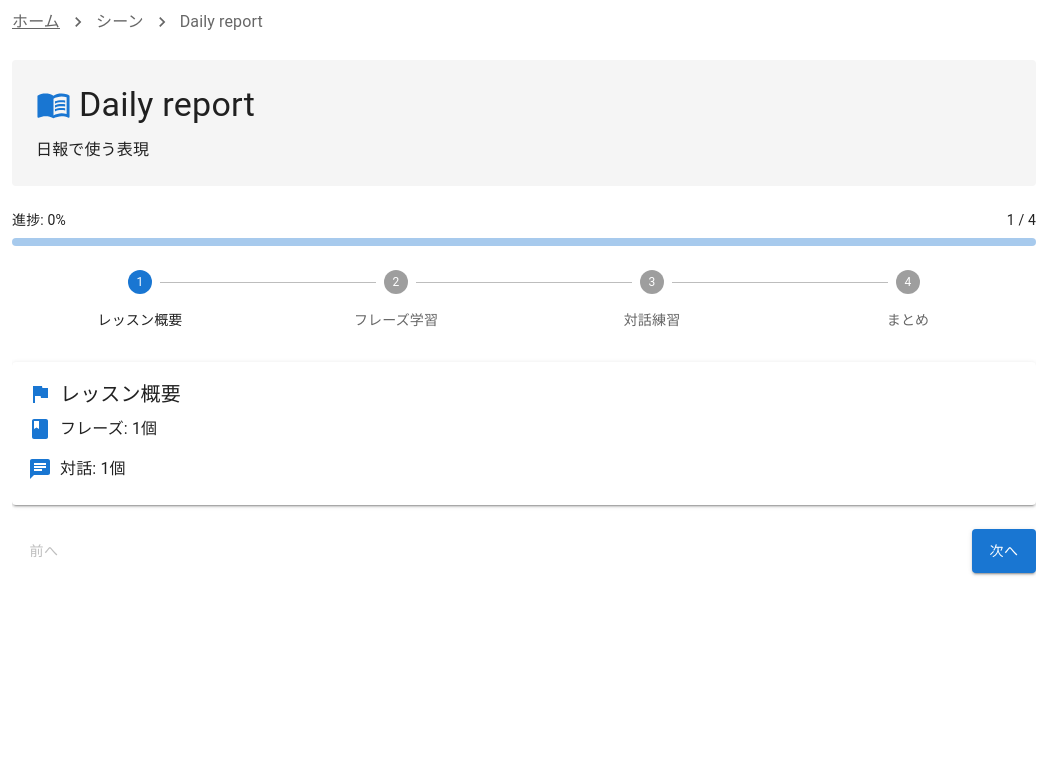
Test case: サーバに保存できない場合は進捗をローカルに保存する
Click the button "次へ" at (1004, 551), box [972,529,1036,573]
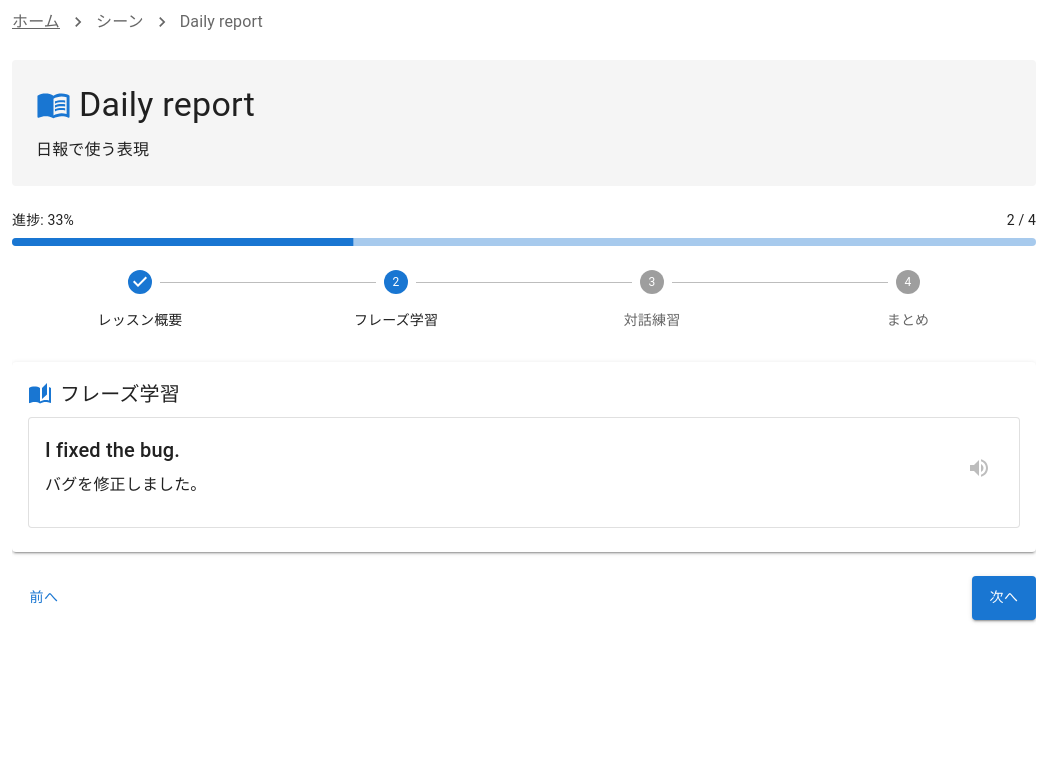
Click the button "次へ" at (1004, 598), box [972,576,1036,620]
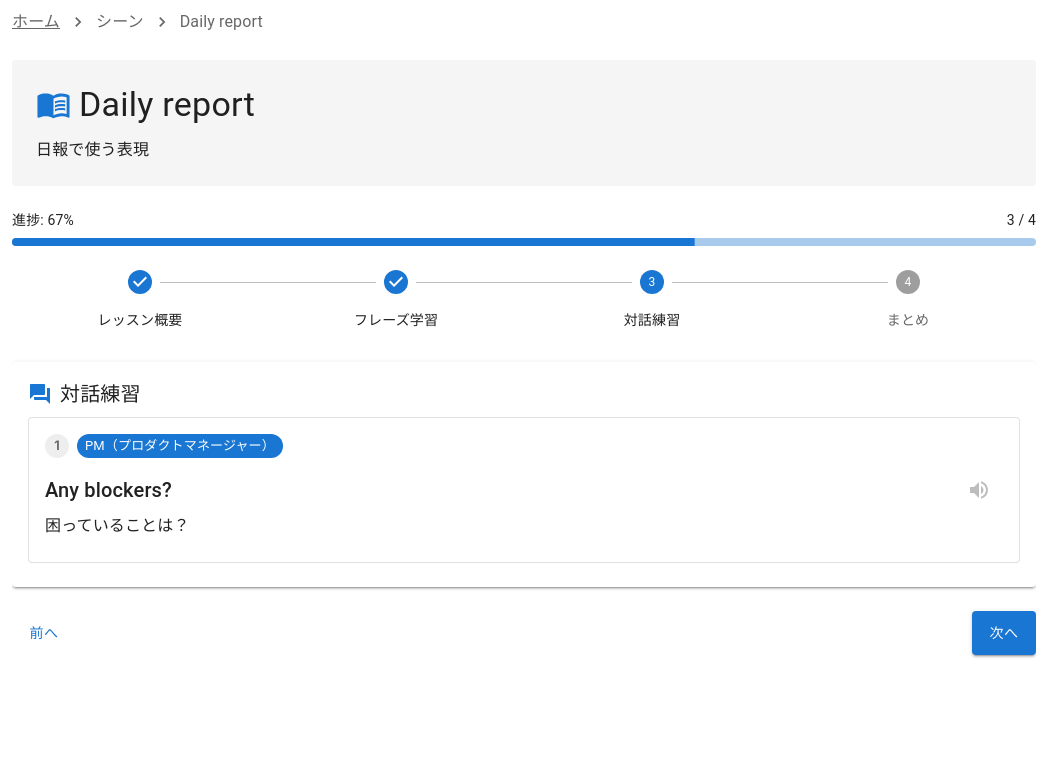
Click the button "次へ" at (1004, 633), box [972,611,1036,655]
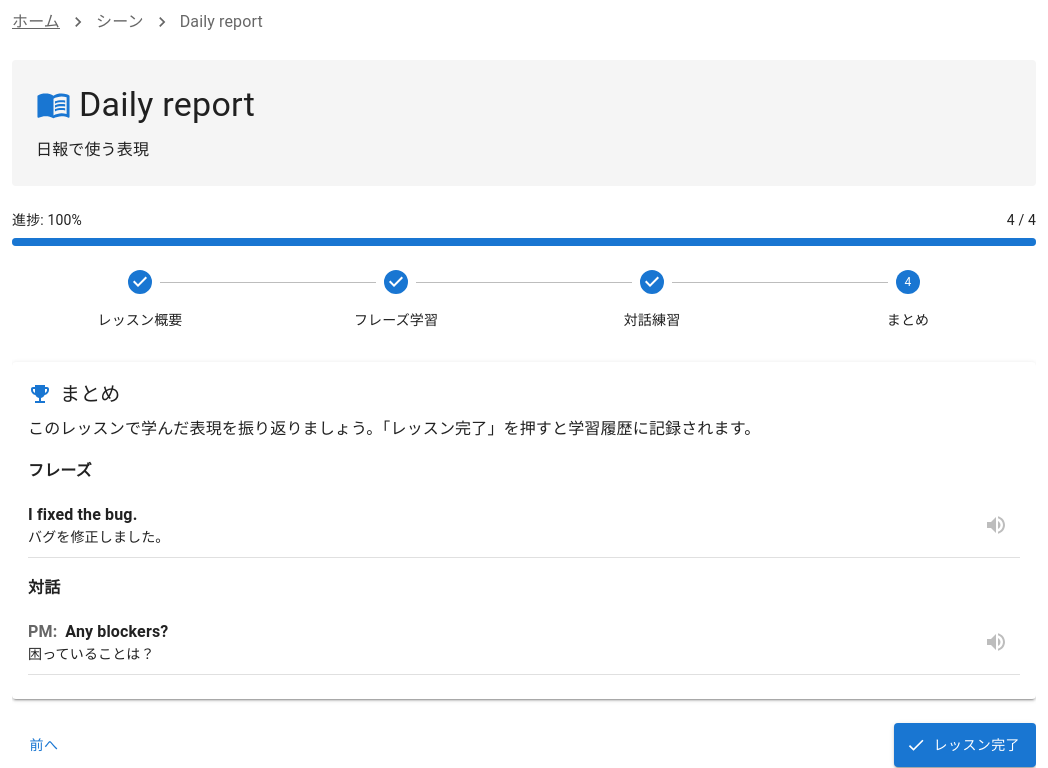
Click the button "レッスン完了" at (965, 745), box [894,723,1036,767]
(page scrolled)
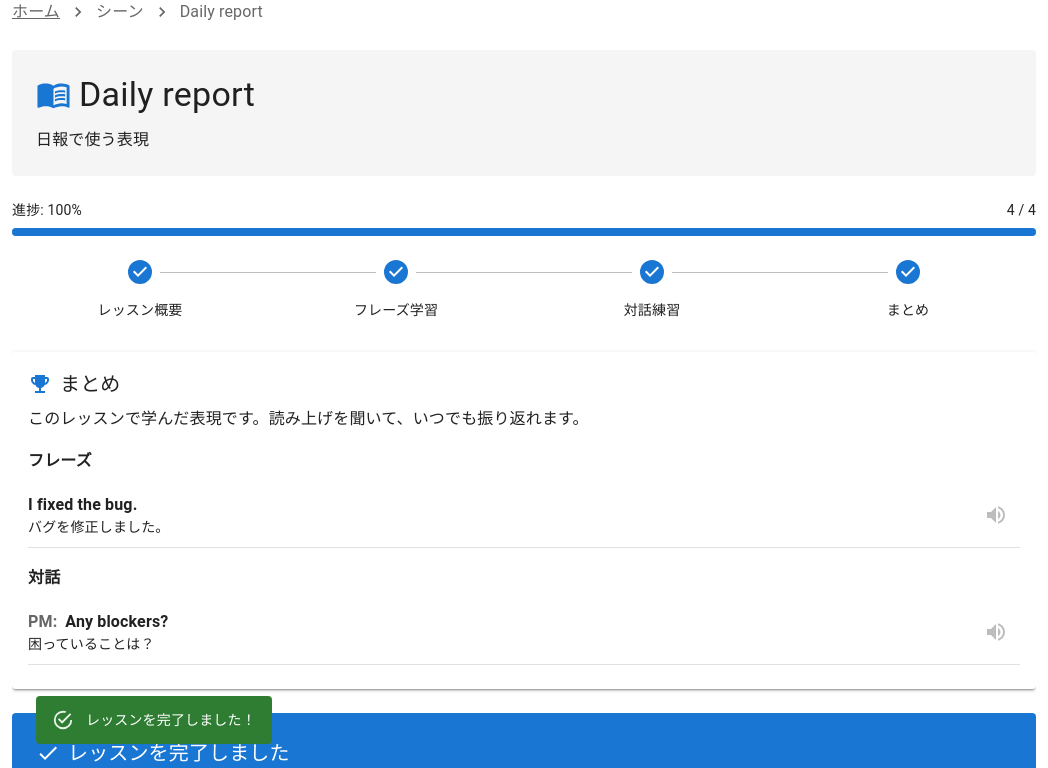
Check: the text "レッスンを完了しました！" is shown, box [86,712,256,728]
